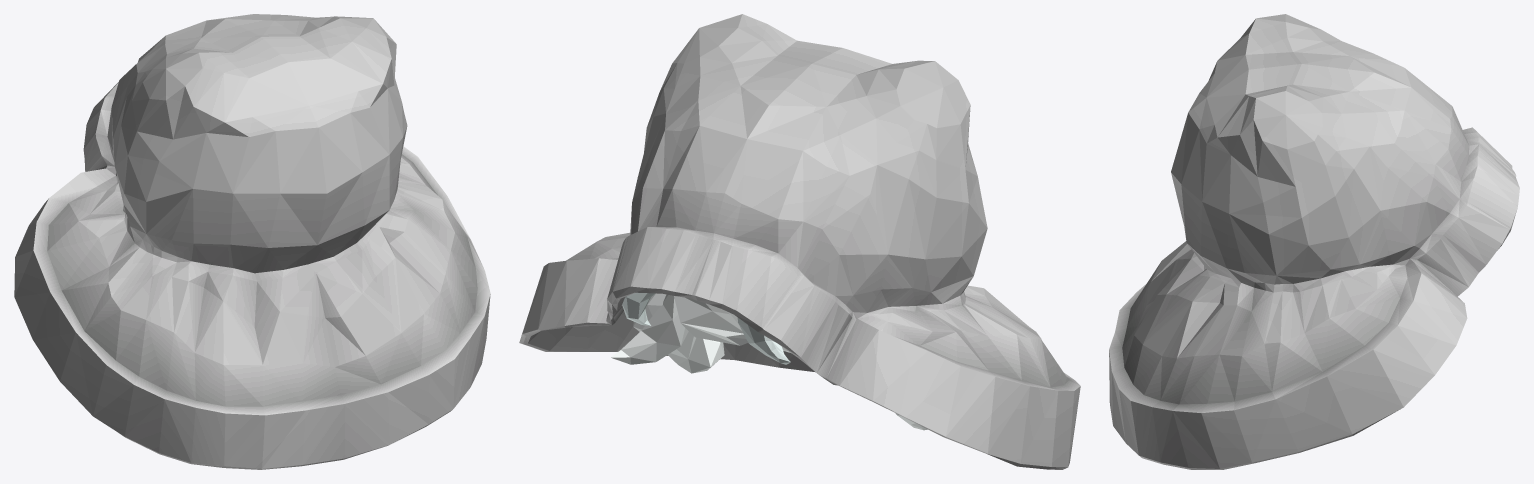
The model's file is CharSkyKid_Hair_AP31Bonnet.glb.
The picture shows the model from 3 angles, left to right: view 1: azimuth 30°, elevation 25°; view 2: azimuth 150°, elevation 25°; view 3: azimuth 270°, elevation 25°; orthographic projection. The views are drawn at different scales.
Visible parts, largest first — view 1: CharSkyKid_Hair_AP31Bonnet; view 2: CharSkyKid_Hair_AP31Bonnet; view 3: CharSkyKid_Hair_AP31Bonnet.
Part boxes in pixels (x1=…): CharSkyKid_Hair_AP31Bonnet: x1=14, y1=14, x2=490, y2=469; CharSkyKid_Hair_AP31Bonnet: x1=519, y1=14, x2=1080, y2=469; CharSkyKid_Hair_AP31Bonnet: x1=1109, y1=14, x2=1519, y2=469.
Size of the model in its own units: 4.77 by 4.01 by 4.19.
Materials: 1 (1 with a texture image).
